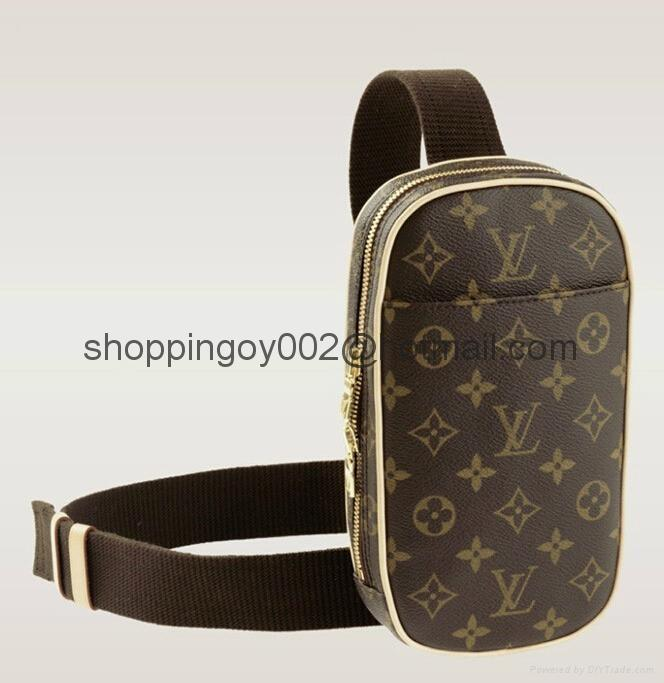LOUIS-VUITTON: (488, 401, 545, 458), (488, 223, 537, 284), (488, 564, 539, 619)
